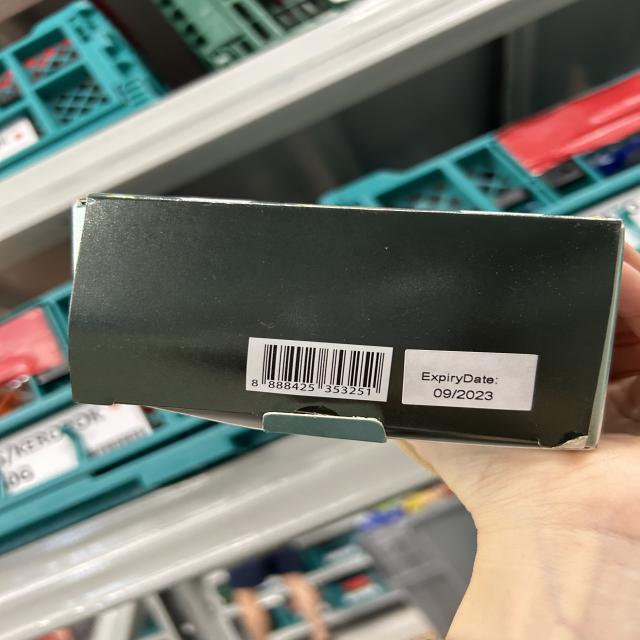object_name: (64, 200, 606, 438)
